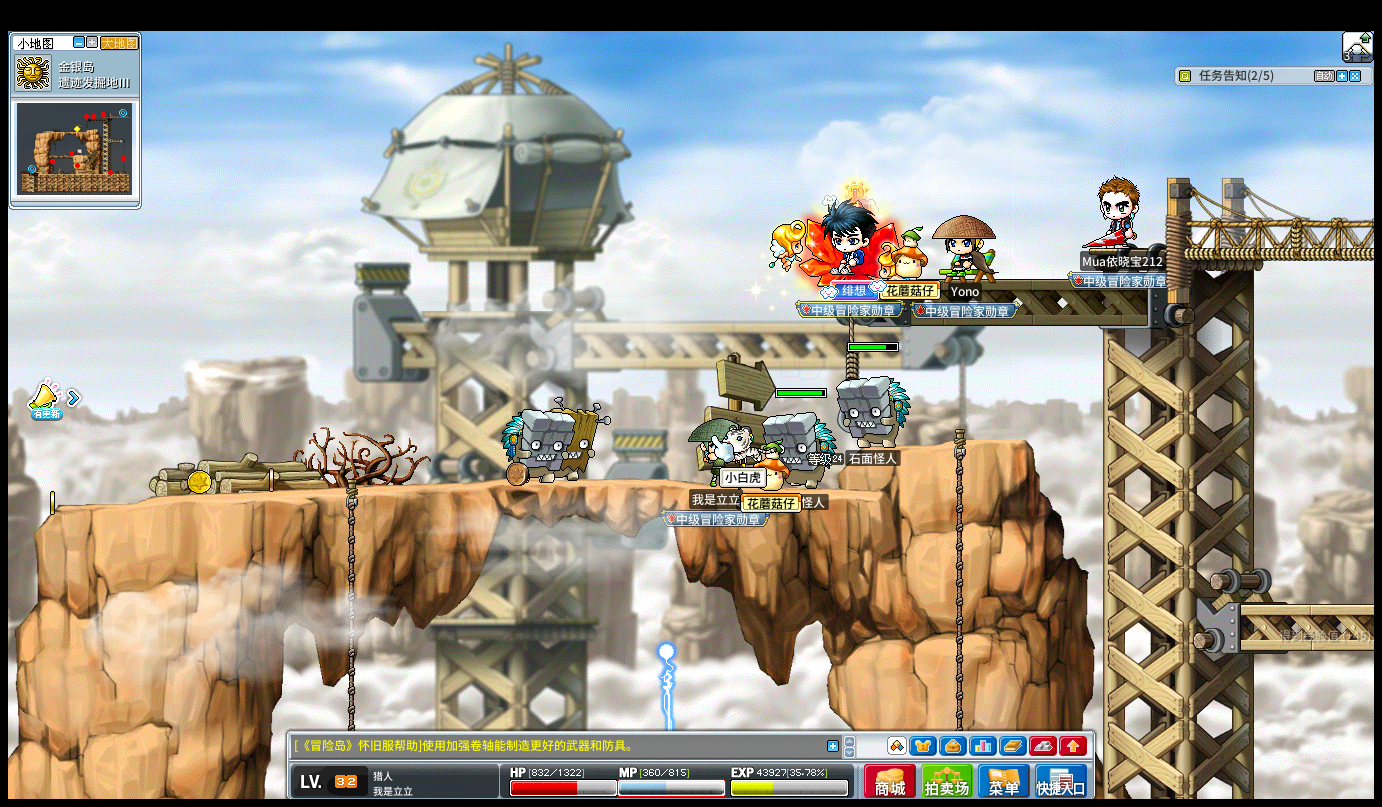floor: (48, 475, 909, 508), (45, 477, 939, 499), (1188, 210, 1376, 229), (1238, 600, 1373, 618), (886, 435, 1029, 450), (882, 439, 1029, 452)
monster: (837, 374, 911, 450), (501, 408, 573, 485), (770, 411, 836, 487)
rope: (342, 471, 356, 807), (951, 429, 966, 724), (344, 476, 357, 714)
